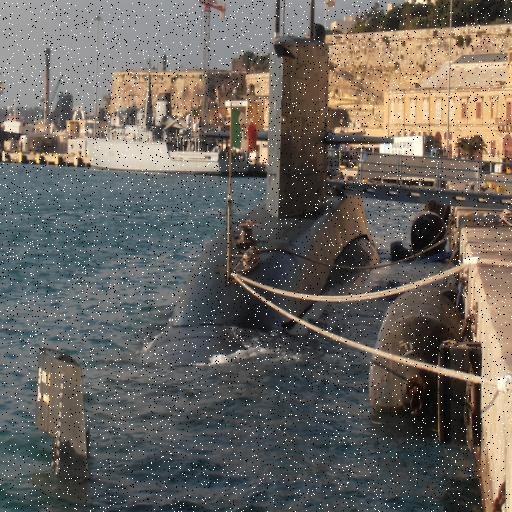submarine: (34, 1, 378, 485)
